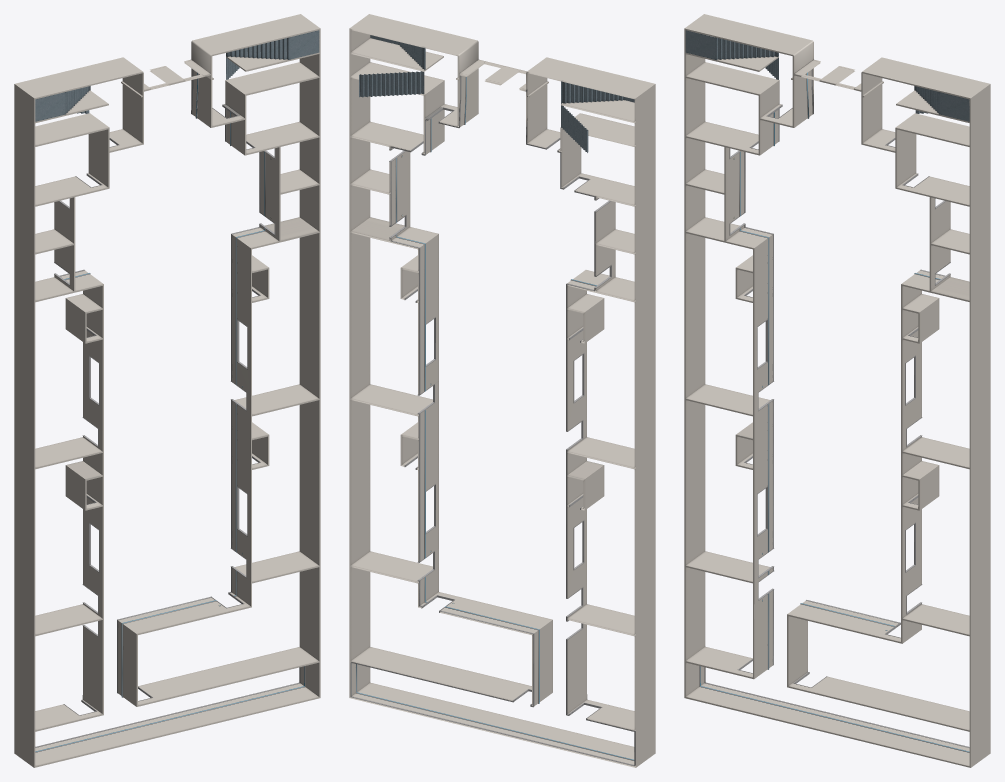
The model's file is aws_robomaker_hospital_floor_01_walls_visual.dae.
3 views of the same model, side by side, from view 1: azimuth 30°, elevation 25°; view 2: azimuth 150°, elevation 25°; view 3: azimuth 330°, elevation 25° (orthographic).
Visible parts, largest first — view 1: aws_robomaker_hospital_floor_01_walls_visual, aws_robomaker_hospital_floor_01_stairs_visual, aws_robomaker_hospital_floor_01_handrail_visual, aws_robomaker_hospital_floor_01_bumprail_visual, aws_robomaker_hospital_floor_01_windows_visual, aws_robomaker_hospital_floor_01_doorframes_small_visual, aws_robomaker_hospital_floor_01_doorframes_big_visual; view 2: aws_robomaker_hospital_floor_01_walls_visual, aws_robomaker_hospital_floor_01_stairs_visual, aws_robomaker_hospital_floor_01_bumprail_visual, aws_robomaker_hospital_floor_01_handrail_visual, aws_robomaker_hospital_floor_01_windows_visual, aws_robomaker_hospital_floor_01_doorframes_big_visual, aws_robomaker_hospital_floor_01_doorframes_small_visual; view 3: aws_robomaker_hospital_floor_01_walls_visual, aws_robomaker_hospital_floor_01_stairs_visual, aws_robomaker_hospital_floor_01_handrail_visual, aws_robomaker_hospital_floor_01_bumprail_visual, aws_robomaker_hospital_floor_01_windows_visual, aws_robomaker_hospital_floor_01_doorframes_small_visual, aws_robomaker_hospital_floor_01_doorframes_big_visual.
Part boxes in pixels (box(x1,y1,x2,y2)): aws_robomaker_hospital_floor_01_walls_visual: box(14, 14, 320, 767); aws_robomaker_hospital_floor_01_stairs_visual: box(35, 30, 319, 121); aws_robomaker_hospital_floor_01_handrail_visual: box(35, 72, 305, 752); aws_robomaker_hospital_floor_01_bumprail_visual: box(35, 69, 300, 747); aws_robomaker_hospital_floor_01_windows_visual: box(89, 319, 247, 572); aws_robomaker_hospital_floor_01_doorframes_small_visual: box(54, 104, 275, 504); aws_robomaker_hospital_floor_01_doorframes_big_visual: box(64, 381, 246, 715); aws_robomaker_hospital_floor_01_walls_visual: box(349, 14, 655, 767); aws_robomaker_hospital_floor_01_stairs_visual: box(359, 35, 634, 152); aws_robomaker_hospital_floor_01_bumprail_visual: box(350, 75, 635, 766); aws_robomaker_hospital_floor_01_handrail_visual: box(356, 77, 634, 760); aws_robomaker_hospital_floor_01_windows_visual: box(425, 317, 584, 569); aws_robomaker_hospital_floor_01_doorframes_big_visual: box(417, 384, 601, 720); aws_robomaker_hospital_floor_01_doorframes_small_visual: box(389, 107, 611, 509); aws_robomaker_hospital_floor_01_walls_visual: box(684, 14, 990, 767); aws_robomaker_hospital_floor_01_stairs_visual: box(685, 30, 969, 121); aws_robomaker_hospital_floor_01_handrail_visual: box(699, 72, 969, 752); aws_robomaker_hospital_floor_01_bumprail_visual: box(704, 69, 969, 747); aws_robomaker_hospital_floor_01_windows_visual: box(757, 319, 915, 572); aws_robomaker_hospital_floor_01_doorframes_small_visual: box(729, 104, 950, 504); aws_robomaker_hospital_floor_01_doorframes_big_visual: box(738, 381, 922, 687).
Size of the model in its own units: 25.12 by 6 by 56.12.
8 materials, 8 textured.
